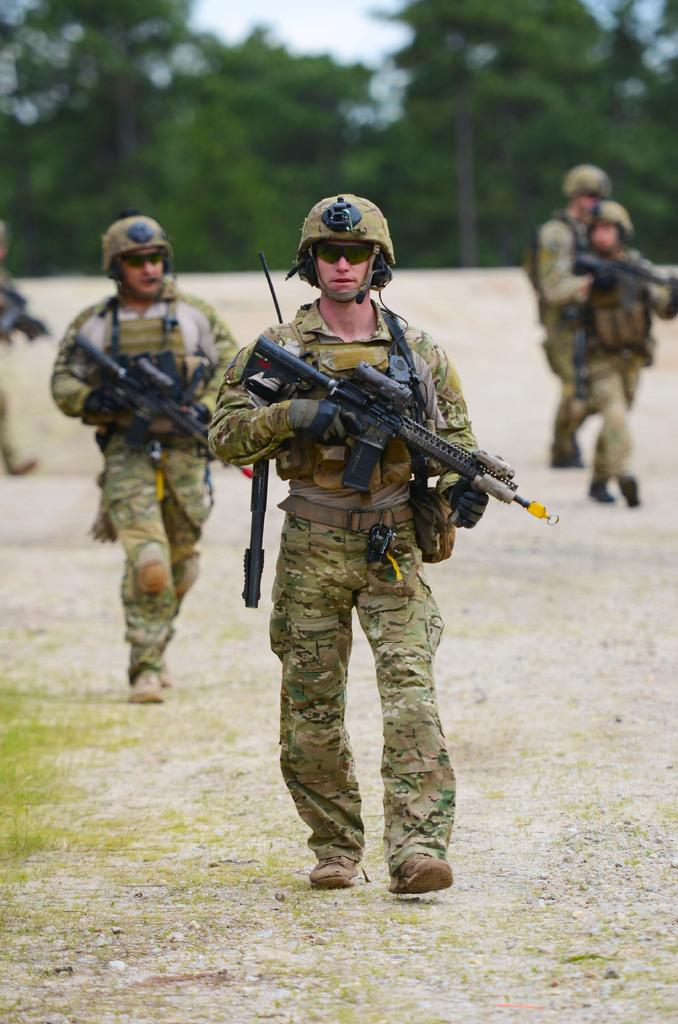Rifle: (245, 358, 581, 552), (67, 326, 217, 447)
